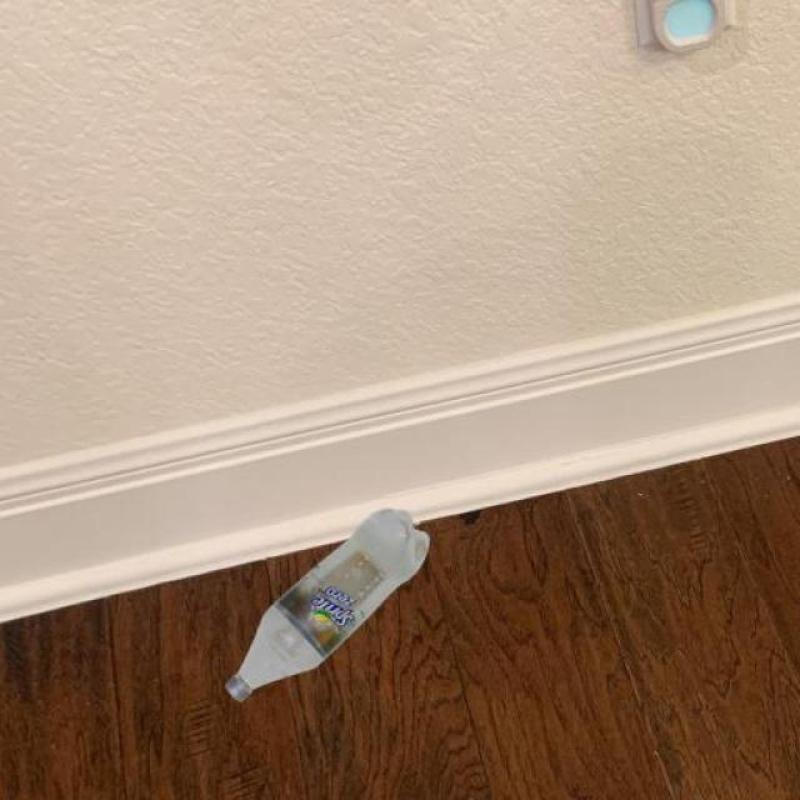botella: (224, 508, 428, 702)
